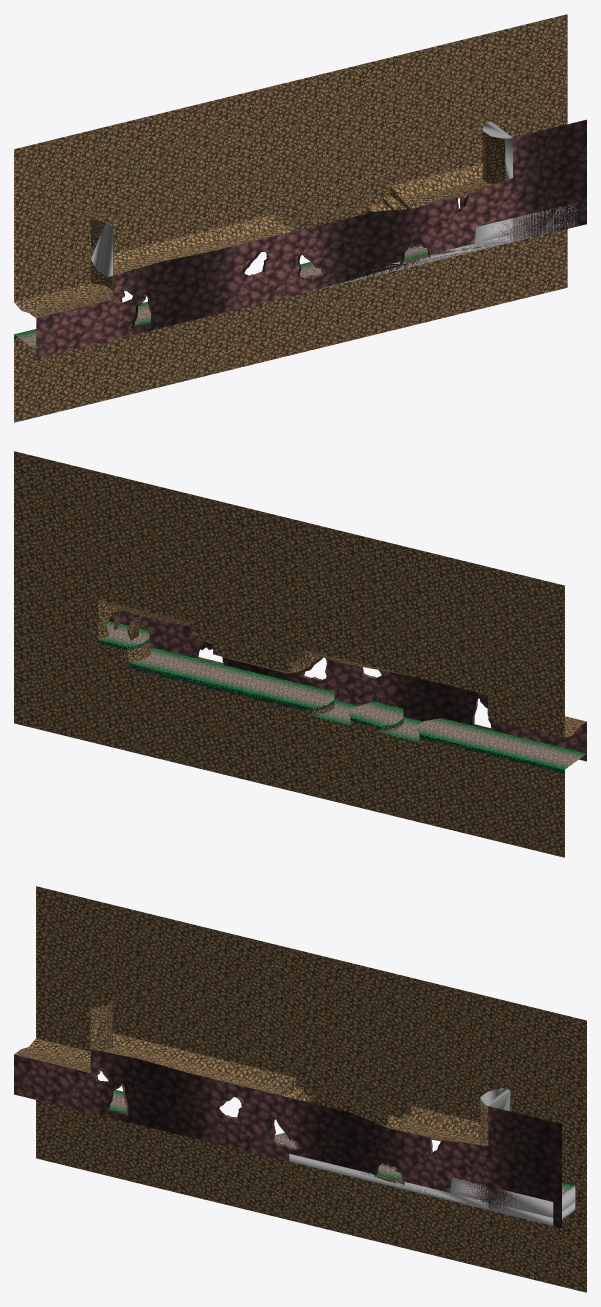
Rendered from Area2_Room13.fbx.
The picture shows the model from 3 angles, top to bottom: view 1: azimuth 30°, elevation 25°; view 2: azimuth 150°, elevation 25°; view 3: azimuth 330°, elevation 25°; orthographic projection.
Parts seen in each view (by area): view 1: pCube86; view 2: pCube86; view 3: pCube86.
Part boxes in pixels (x1,y1,x2,y2): pCube86: (14,14,586,422); pCube86: (14,451,586,857); pCube86: (14,886,586,1292).
Bounding box in the file's own units: 72 × 34 × 5.44.
